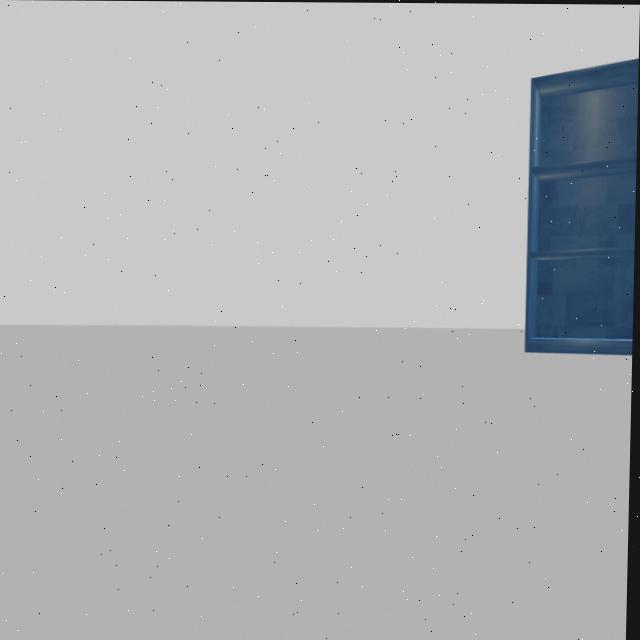shelf: (516, 50, 639, 361)
